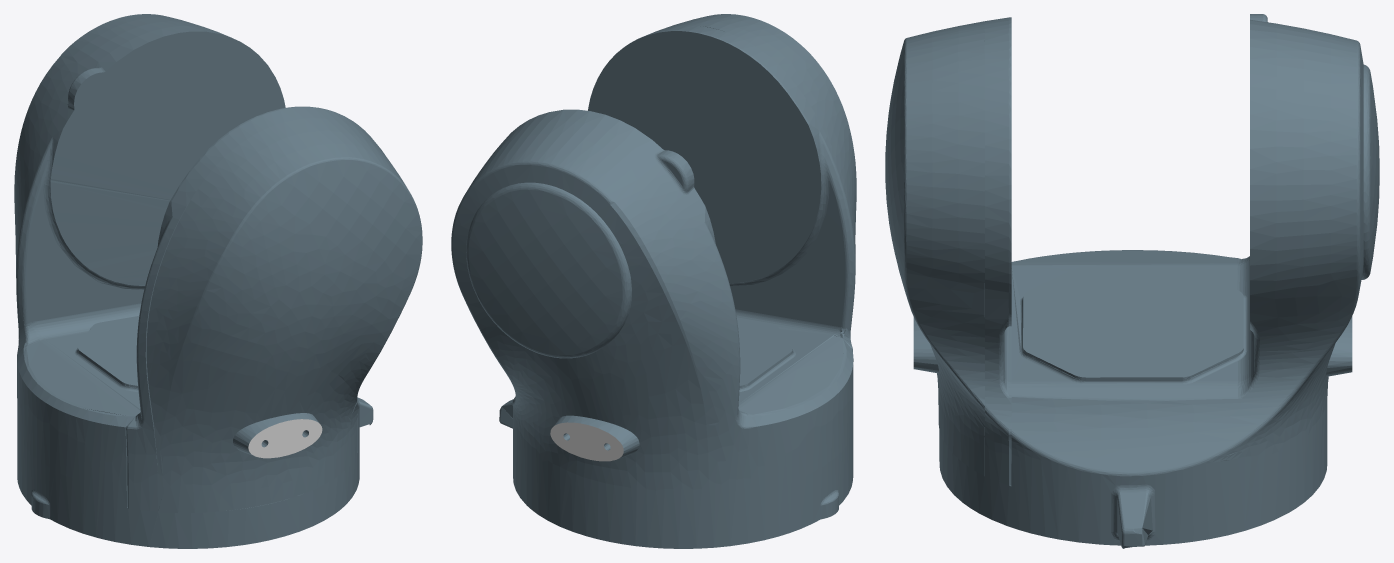
3 renders of one model, left to right at view 1: azimuth 30°, elevation 25°; view 2: azimuth 150°, elevation 25°; view 3: azimuth 270°, elevation 25°, orthographic. The views are drawn at different scales.
Visible parts, largest first — view 1: link_1; view 2: link_1; view 3: link_1.
Boxes of the visible parts, box(x1,y1,x2,y2) form: link_1: box(14, 14, 422, 548); link_1: box(451, 14, 856, 548); link_1: box(885, 14, 1379, 548).
Size of the model in its own units: 0.2455 by 0.2779 by 0.2795.
